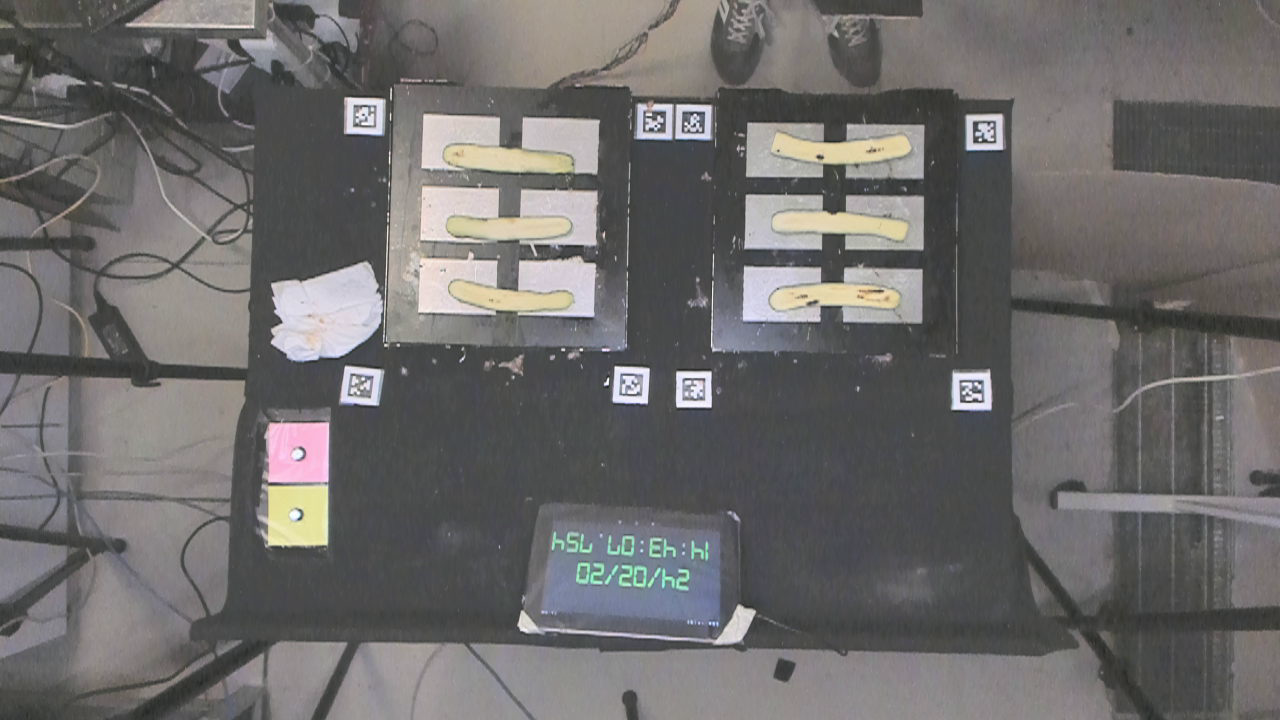marker: (266, 421, 329, 484)
zucchini: (437, 137, 580, 184), (766, 126, 914, 168), (759, 203, 918, 242), (437, 207, 584, 246), (444, 275, 580, 314), (769, 280, 905, 315)
